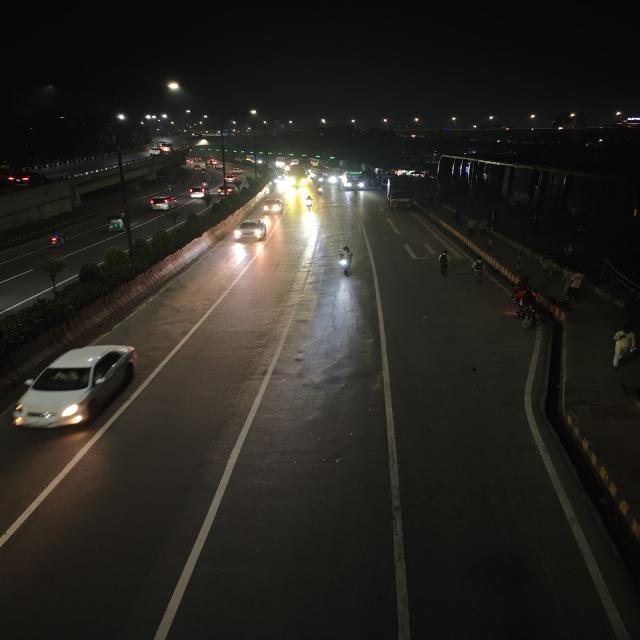bus: (313, 165, 342, 188), (342, 169, 367, 191), (286, 164, 308, 185)
car: (6, 337, 149, 439), (230, 217, 270, 245), (6, 170, 52, 188), (147, 193, 182, 212), (259, 197, 285, 215), (188, 186, 208, 200), (217, 185, 235, 197), (224, 172, 238, 184), (158, 144, 172, 154), (229, 166, 243, 175)
cng: (104, 211, 130, 233)
motorcycle: (507, 276, 544, 328), (331, 244, 358, 278), (44, 227, 69, 249), (302, 194, 317, 211)
pedestrian: (607, 323, 639, 371), (433, 248, 455, 277), (469, 258, 490, 286)
truck: (381, 175, 417, 212)
